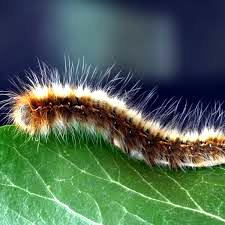Caterpillar: (6, 67, 225, 178)
